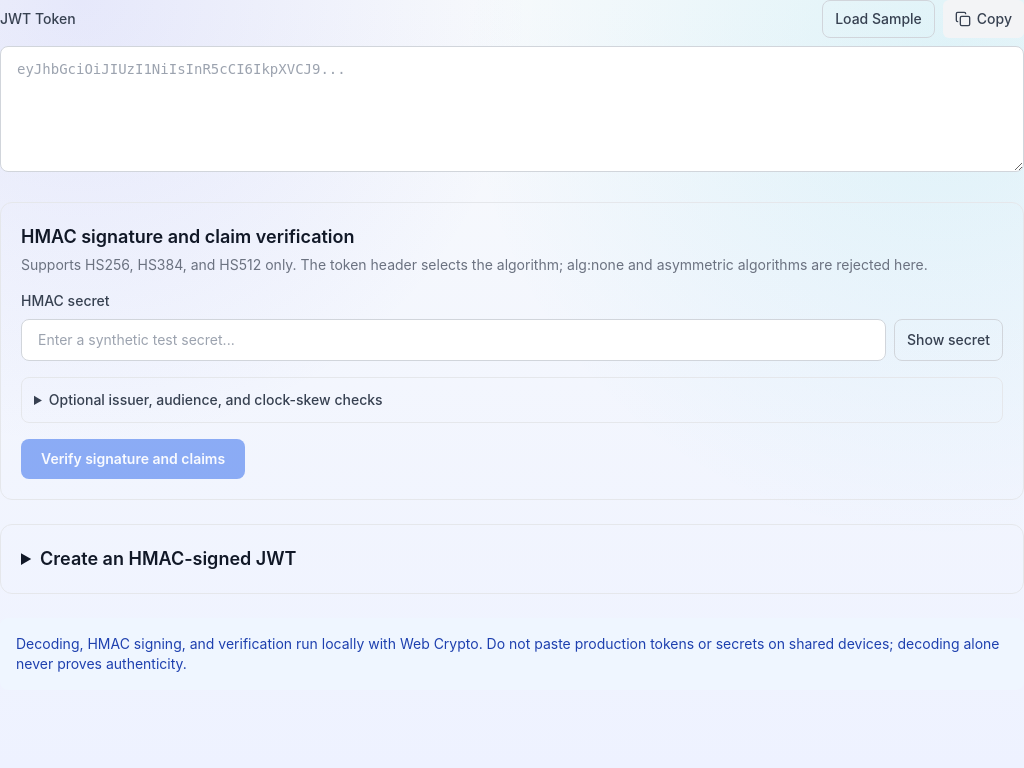
Test: JwtDecoderTool › loads a sample and verifies its HMAC signature
Click the button "Load Sample" at (878, 19), box [822, 0, 935, 38]
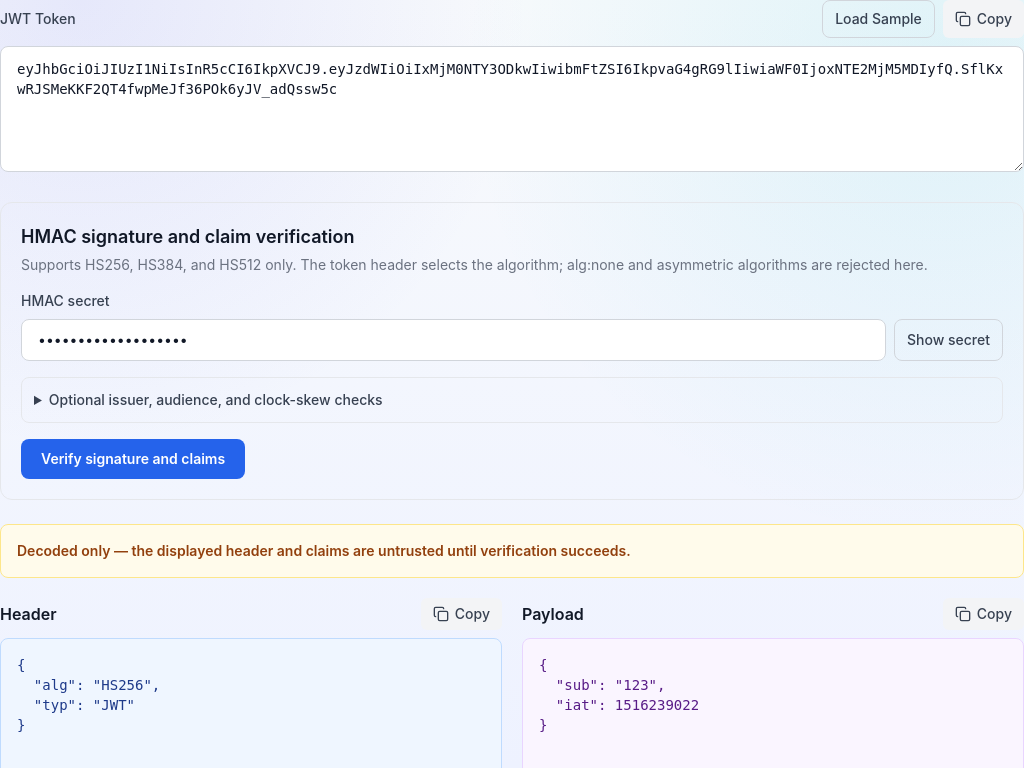
Expected: the password field labelled "HMAC secret" holds "your-256-bit-secret", [21, 319, 886, 361]
Click the button "Verify signature and claims" at (133, 459), box [21, 439, 245, 479]
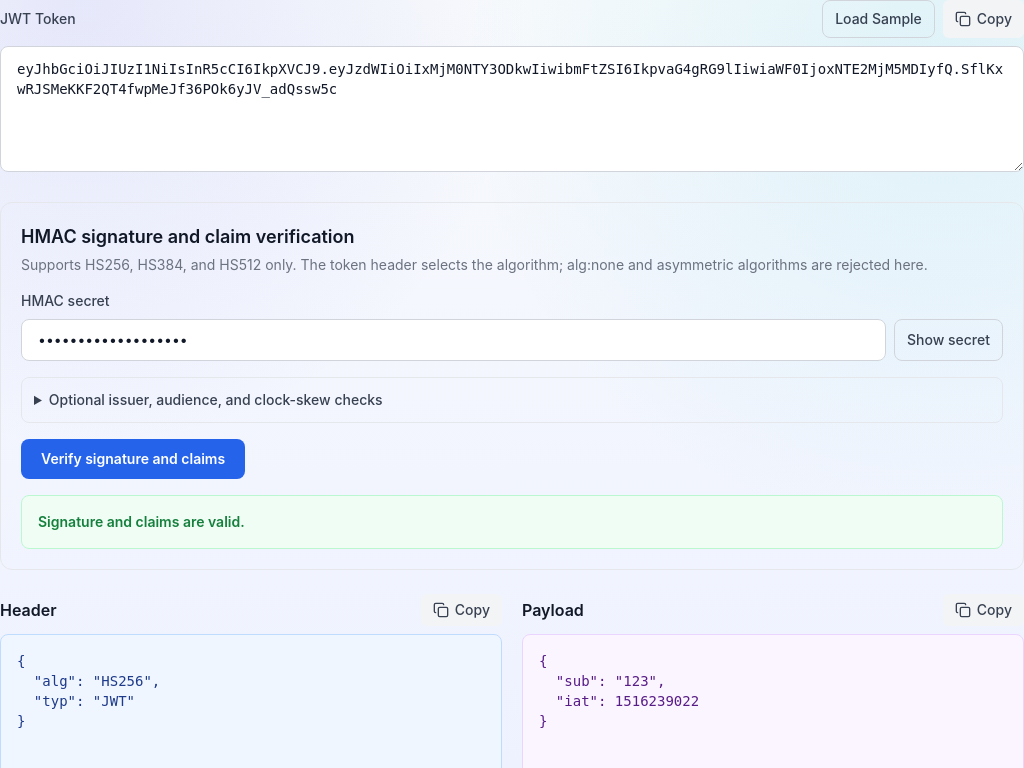
Expected: the message shows "Signature and claims are valid", [38, 513, 245, 530]
